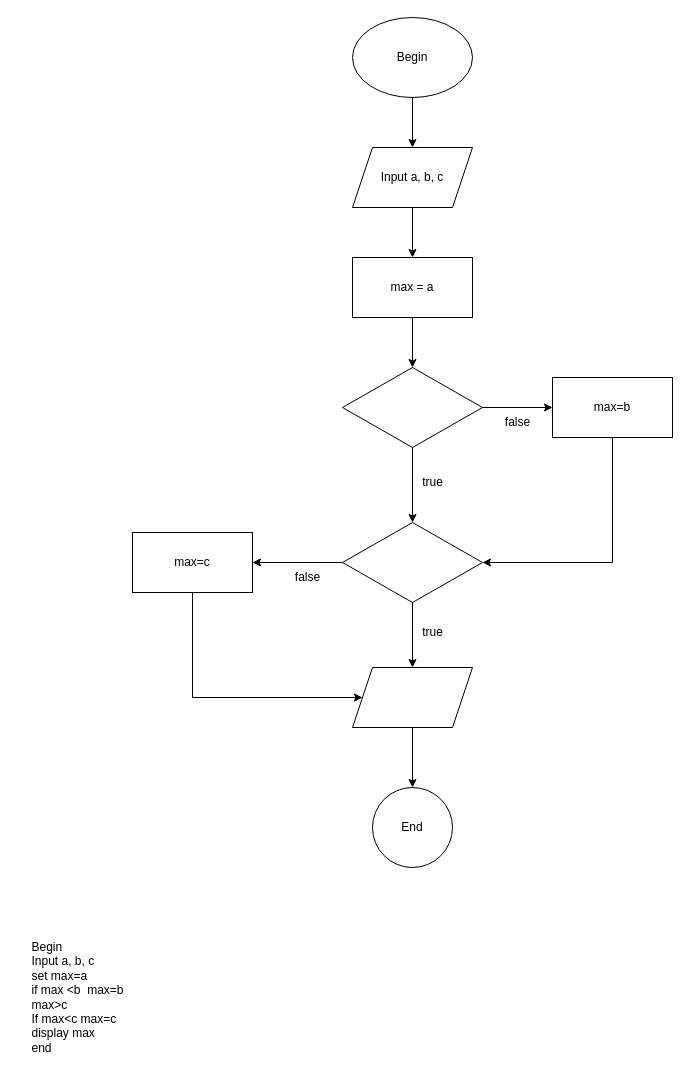
The diagram is 690 pixels wide and 1080 high, and some of its shapes have lost their labels. The box of each missing label's shape, as (x1, y1, x2, y2) in pixels:
Display max: (352, 666, 472, 728)
max >b: (342, 366, 482, 448)
max >c: (342, 522, 482, 602)
